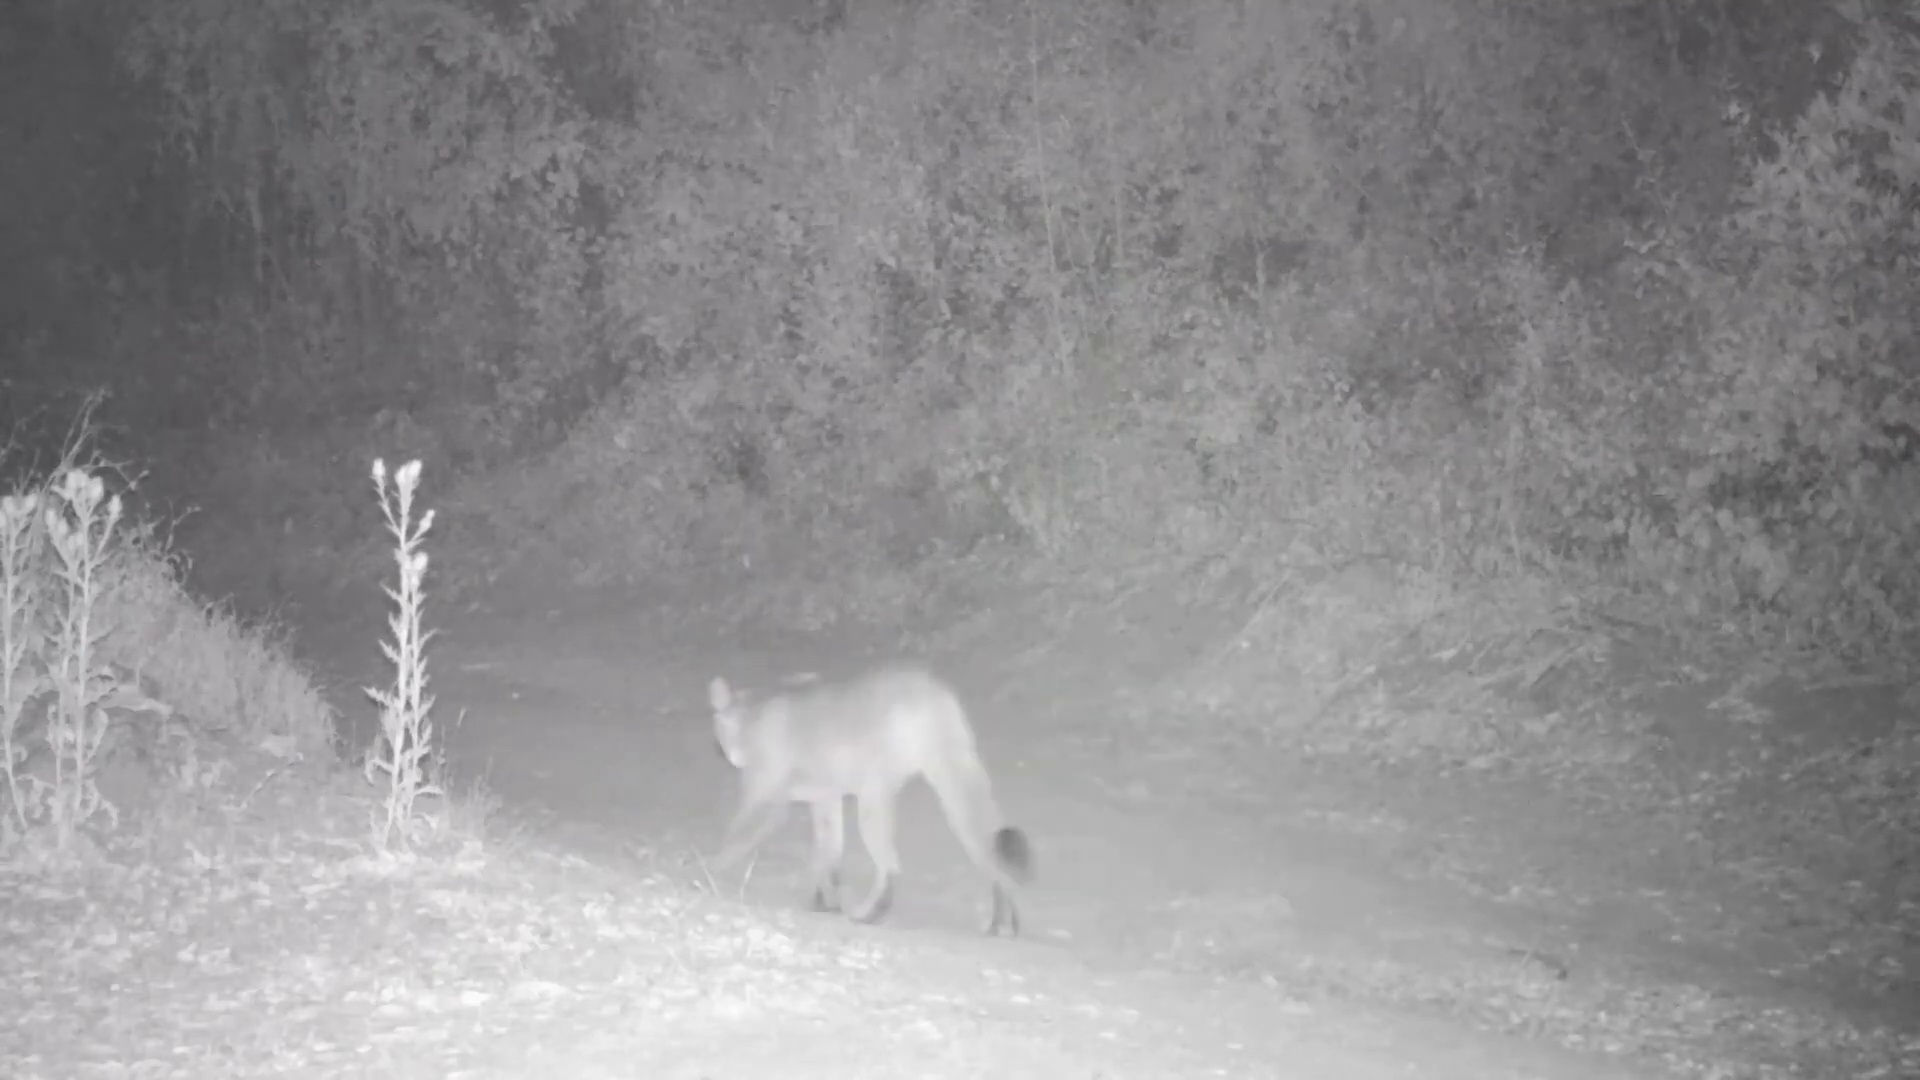Lion: (704, 658, 1036, 944)
